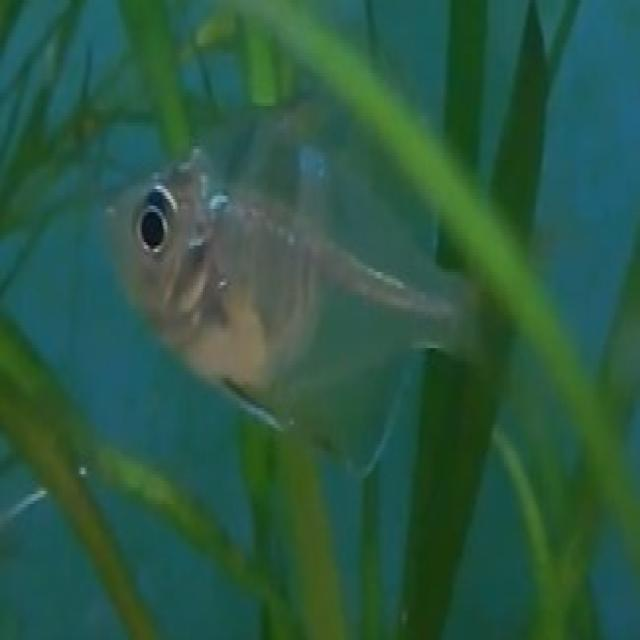Glass-Perchlet: (75, 7, 484, 501)
